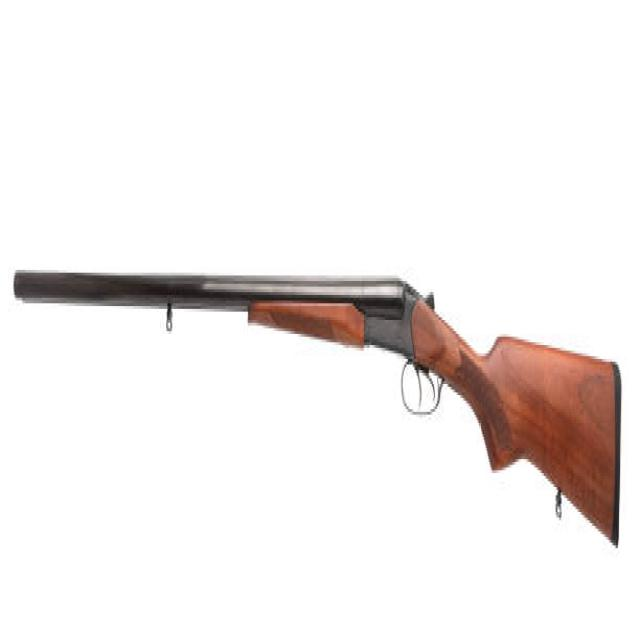rifle: (12, 255, 625, 559)
